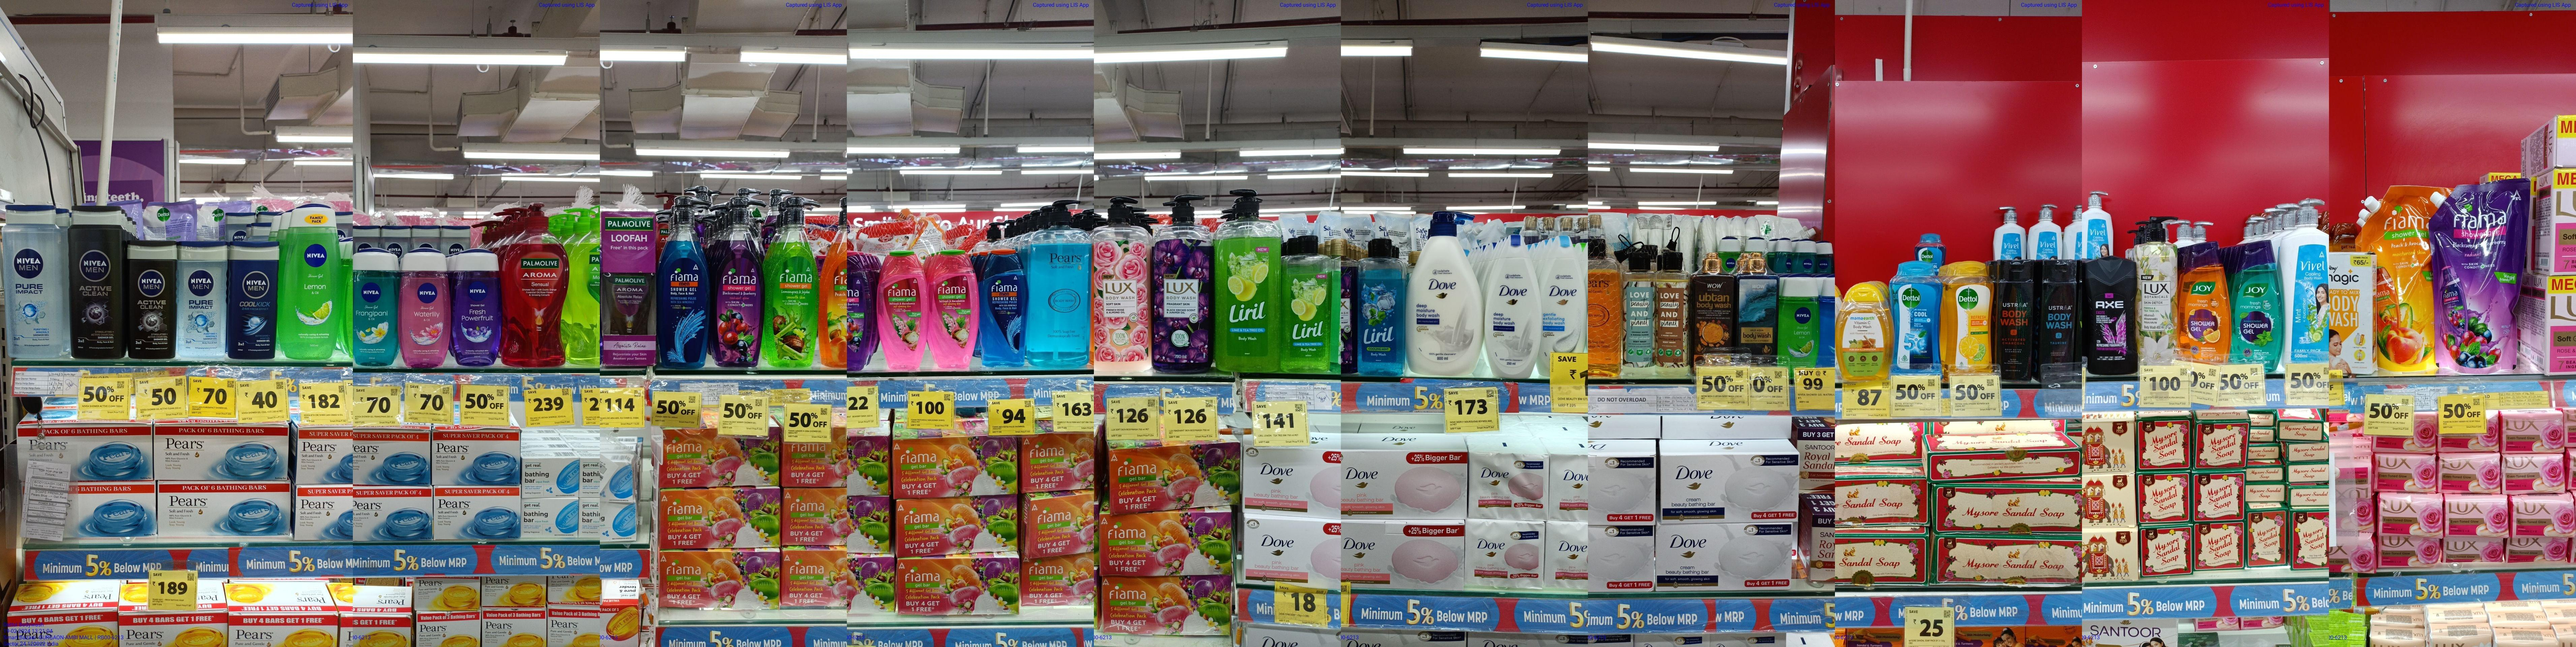Dettol_Bodywash_Cool: (1891, 263, 1942, 374)
Dettol_Bodywash_Refresh: (1945, 263, 1993, 373)
Dove_Deep_Moisture_Body_Wash_250ML: (1485, 230, 1543, 378)
Dove_Gentle_Exfoliating_Body_Wash_250ML: (1546, 235, 1585, 353)
Fiama_Shower_Gel_Patchouli_and_Macadamia_250ML: (876, 245, 928, 368), (932, 246, 978, 366)
Joy_Shower_Gel_Mandarin_and_Lemongrass_250ML: (2178, 245, 2229, 361)
Joy_Shower_Gel_Mint_and_Eucalyptus_250ML: (2233, 241, 2284, 363)
Liril_Cooling_Mint_Body_Wash_250ML: (1359, 238, 1406, 376)
Liril_Lime_and_Tea_Tree_Oil_Body_Wash_250ML: (1281, 233, 1332, 373)
Nivea_Shower_Gel_Frangipani_and_Oil_250ML: (355, 251, 396, 366)
Nivea_Shower_Gel_Fresh_Powerfruit_250ML: (455, 255, 501, 365)
Nivea_Shower_Gel_Lemon_and_Oil_250ML: (281, 205, 342, 365), (1776, 274, 1817, 366)
Nivea_Shower_Gel_Waterlily_and_Oil_250ML: (401, 248, 452, 371)
